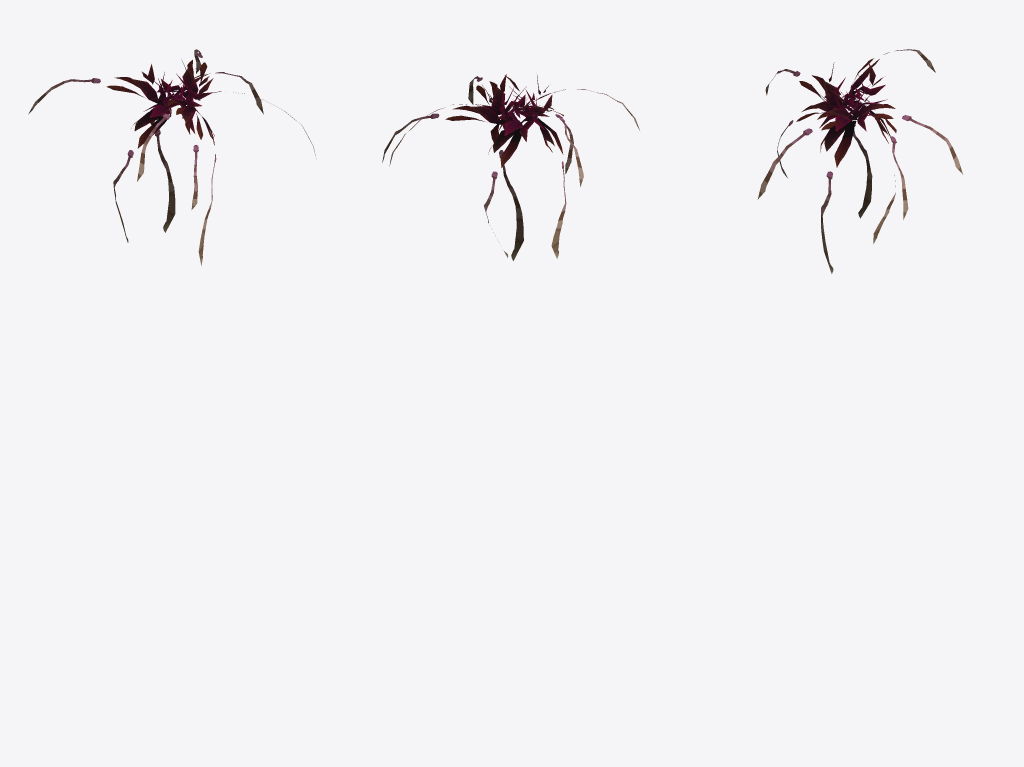
Rendered from trp_palm3.glb.
The picture shows the model from 3 angles, left to right: view 1: azimuth 30°, elevation 25°; view 2: azimuth 150°, elevation 25°; view 3: azimuth 270°, elevation 25°; orthographic projection. The views are drawn at different scales.
Visible parts, largest first — view 1: SM_Env_Tree_Palm_03_LOD0; view 2: SM_Env_Tree_Palm_03_LOD0; view 3: SM_Env_Tree_Palm_03_LOD0.
Boxes of the visible parts, left/top/right/bottom form: SM_Env_Tree_Palm_03_LOD0: left=28, top=49, right=316, bottom=266; SM_Env_Tree_Palm_03_LOD0: left=382, top=74, right=639, bottom=260; SM_Env_Tree_Palm_03_LOD0: left=757, top=49, right=962, bottom=273.
Size of what is drawn, in the model's own units: 5.2 by 11.96 by 5.06.
Materials: 1 (1 with a texture image).
